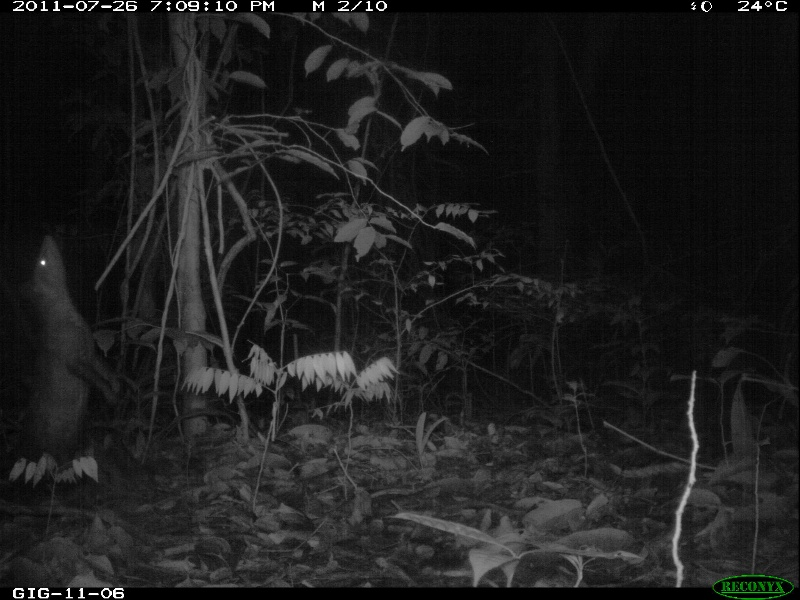opossum: (14, 222, 119, 479)
